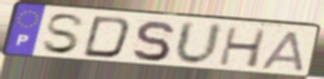A: (259, 29, 306, 73)
D: (80, 15, 134, 60)
H: (216, 25, 269, 70)
S: (40, 12, 87, 56), (130, 19, 176, 63)
U: (172, 19, 225, 68)
